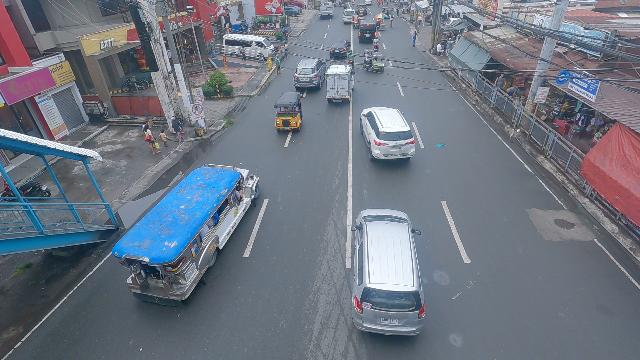car: (349, 208, 430, 337), (359, 105, 417, 162), (293, 57, 323, 90), (329, 39, 351, 59), (356, 3, 367, 16)
jeepney: (110, 163, 260, 300)
motorcycle: (346, 49, 356, 68), (372, 36, 381, 50)
truck: (324, 62, 356, 104), (317, 2, 334, 19)
van: (222, 33, 273, 63), (358, 21, 378, 43), (342, 10, 356, 24)
